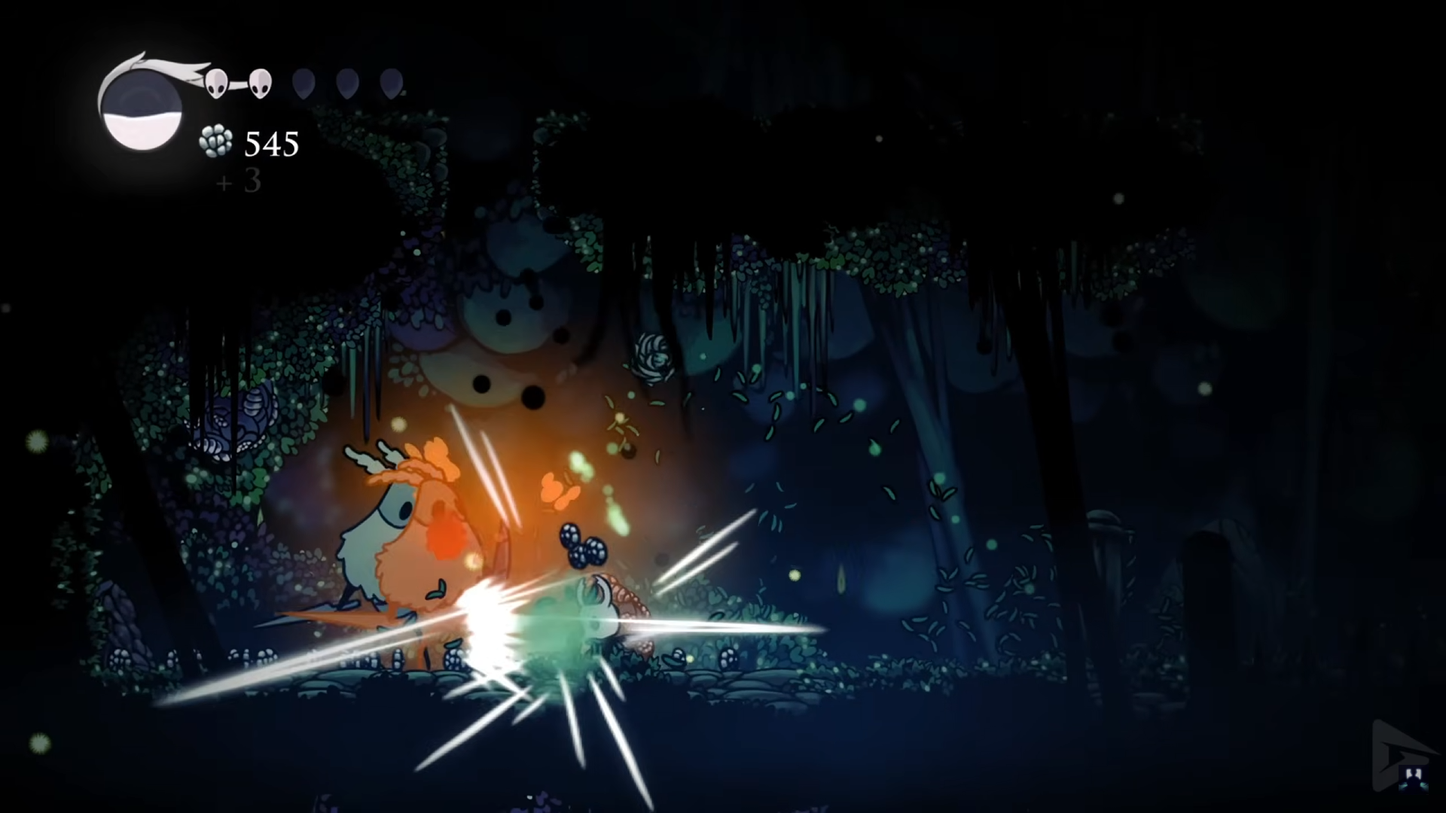HK: (593, 580, 640, 674)
